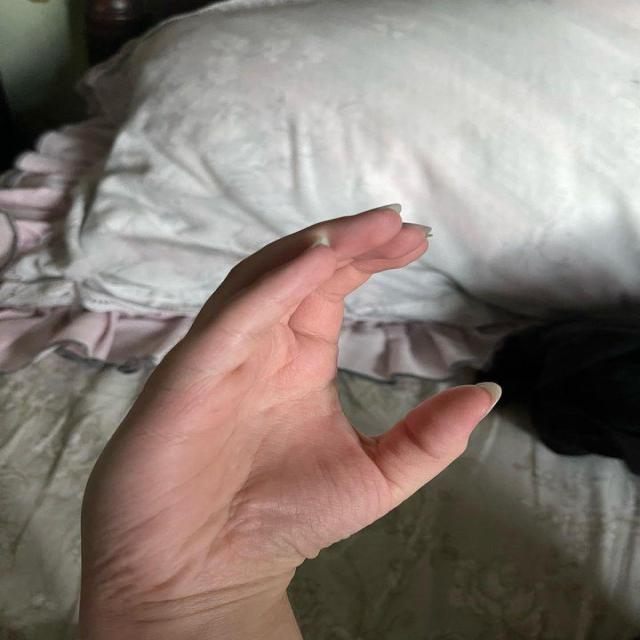C: (84, 200, 508, 591)
